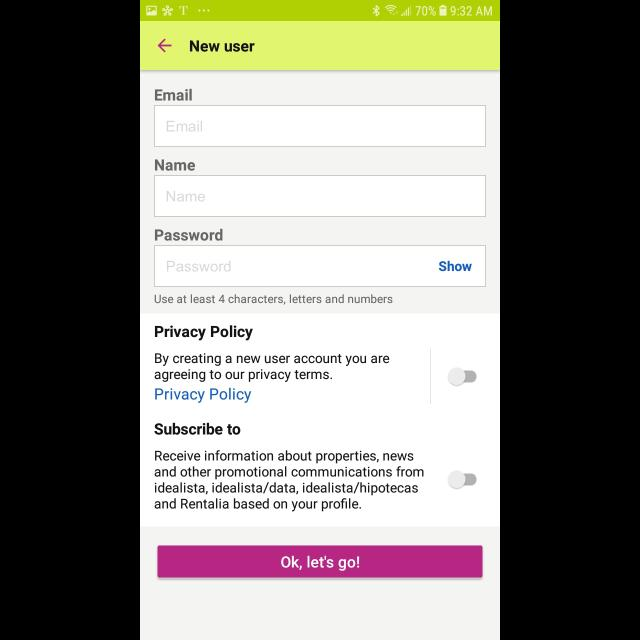icon: (158, 39, 172, 53)
input: (154, 175, 486, 217), (154, 105, 486, 147), (154, 245, 486, 287)
switch: (448, 368, 477, 386), (448, 470, 477, 488)
text: (154, 451, 423, 512), (154, 353, 390, 383), (155, 294, 393, 306), (155, 325, 253, 341), (156, 388, 252, 404), (155, 422, 241, 436), (156, 228, 224, 242), (168, 260, 232, 272), (190, 40, 254, 52), (156, 88, 192, 102), (156, 159, 196, 171), (166, 120, 202, 132), (438, 260, 472, 272), (167, 192, 206, 202)
textbutton: (158, 545, 482, 577)
uppertaskbar: (140, 1, 500, 22)
